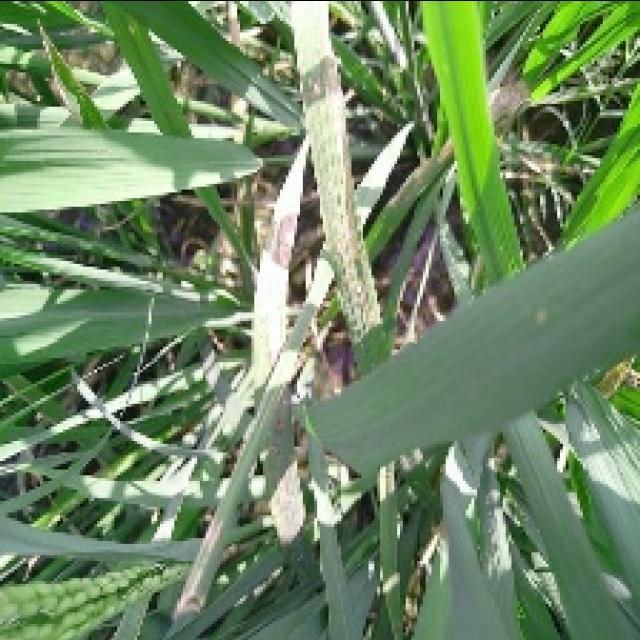Unhealthy: (386, 75, 528, 216), (321, 13, 379, 336), (172, 518, 232, 621), (533, 305, 557, 332)
